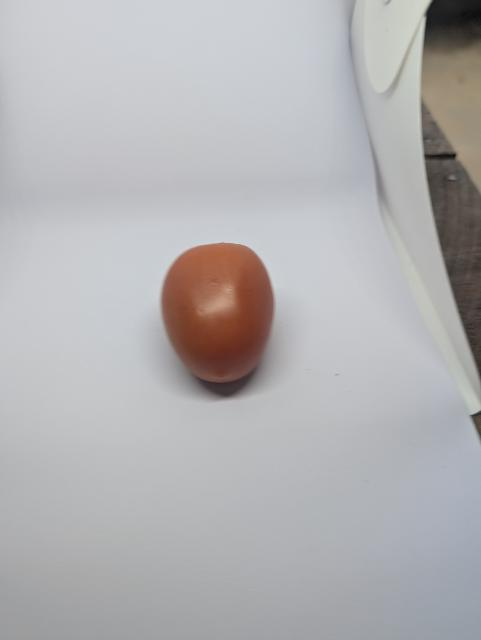red: (138, 234, 300, 398)
